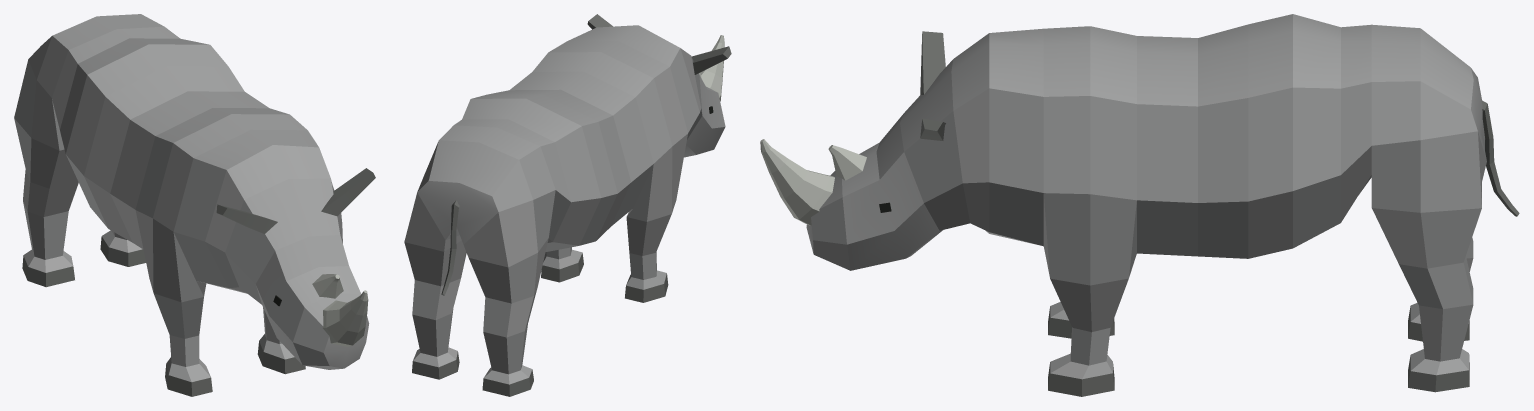
File: Mesh_Rhinoceros.gltf
3 views of the same model, side by side, from view 1: azimuth 30°, elevation 25°; view 2: azimuth 150°, elevation 25°; view 3: azimuth 270°, elevation 25° (orthographic). The views are drawn at different scales.
Visible parts, largest first — view 1: node-0; view 2: node-0; view 3: node-0.
Part boxes in pixels (x1,y1,x2,y2): node-0: (14,14,375,396); node-0: (404,14,731,396); node-0: (760,14,1519,396).
Bounding box in the file's own units: 79.74 × 122 × 258.
1 material, 1 textured.
